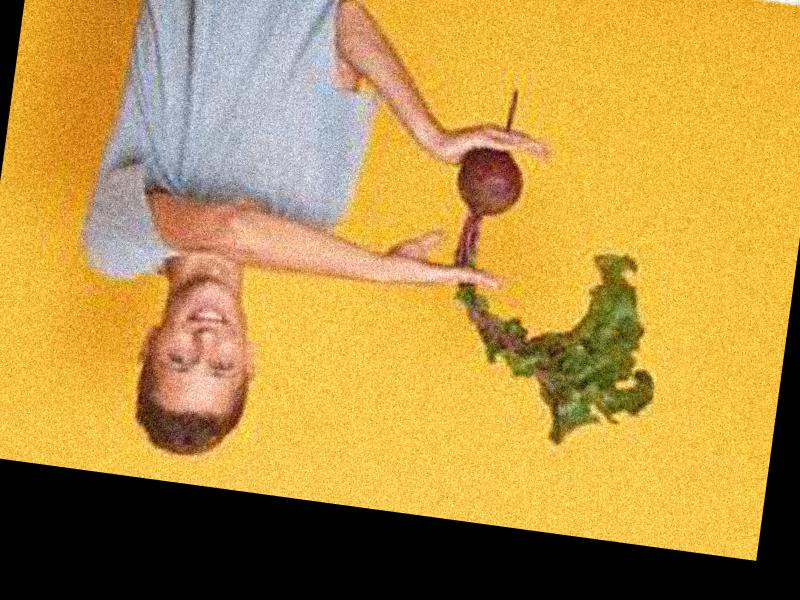Beet: (424, 85, 692, 456)
